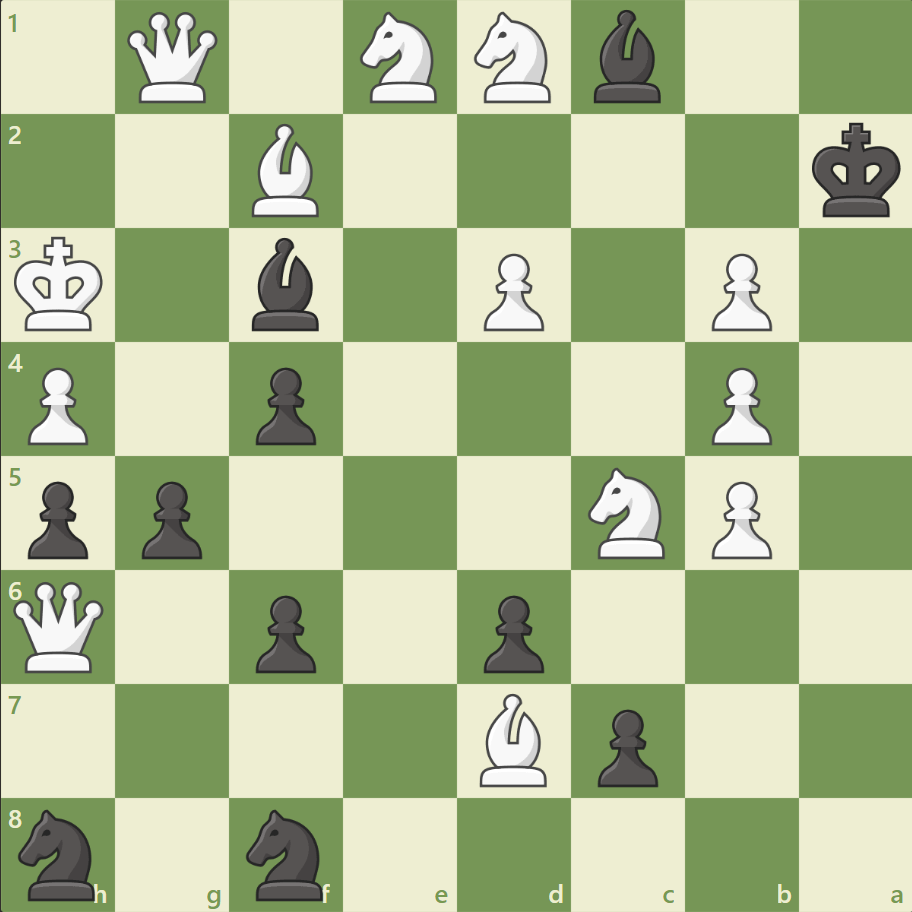B: (471, 687, 555, 790), (244, 120, 328, 222)
K: (11, 231, 111, 339)
N: (351, 7, 449, 110), (579, 461, 676, 564), (465, 7, 562, 110)
P: (701, 473, 776, 564), (701, 359, 776, 450), (20, 359, 95, 450), (701, 246, 776, 337), (474, 246, 549, 337)
Q: (10, 576, 109, 676), (124, 9, 223, 108)
b: (244, 233, 328, 336), (585, 6, 669, 109)
k: (806, 117, 906, 225)
n: (238, 802, 335, 904), (11, 802, 108, 904)
p: (474, 586, 549, 677), (247, 586, 322, 677), (133, 473, 208, 564), (20, 473, 95, 564), (247, 359, 322, 450), (588, 700, 662, 791)
